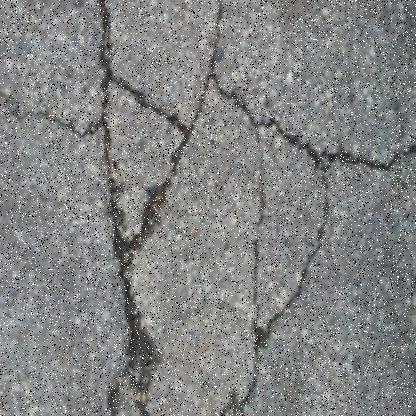Cracks: (206, 69, 416, 416), (84, 0, 229, 416), (0, 19, 103, 145)
